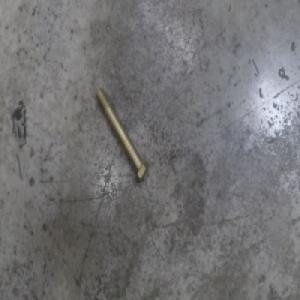Bolt: (95, 85, 150, 184)
